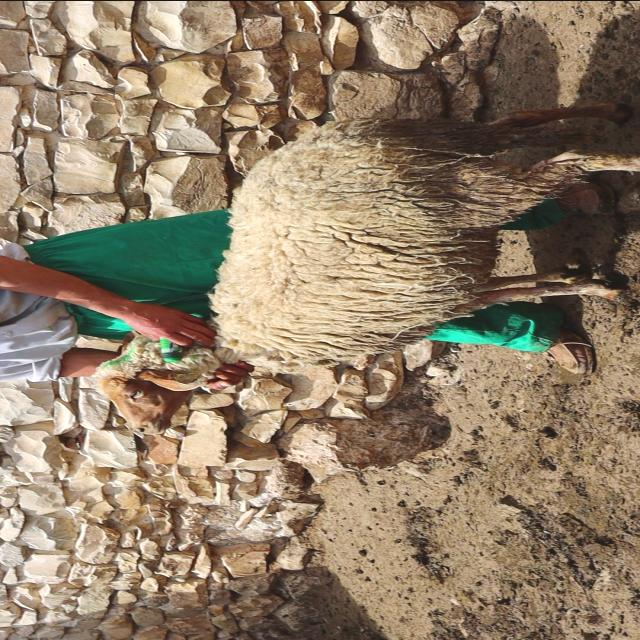Score_3: (97, 103, 639, 434)
